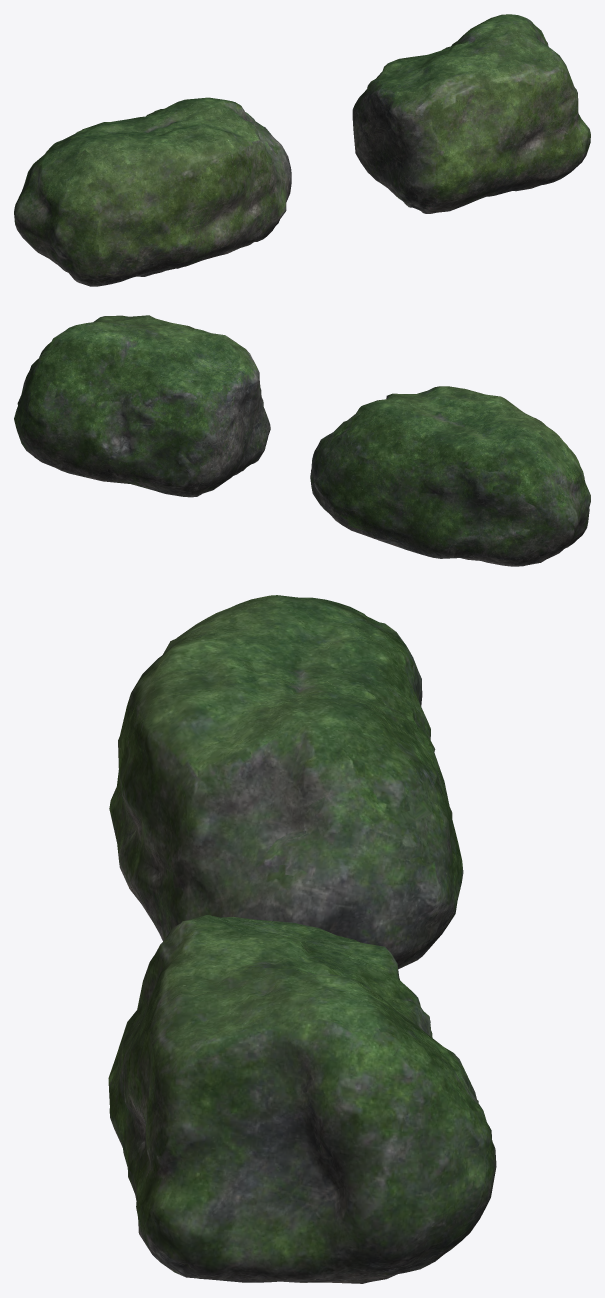
File: rocks.glb
The picture shows the model from 3 angles, top to bottom: view 1: azimuth 30°, elevation 25°; view 2: azimuth 150°, elevation 25°; view 3: azimuth 270°, elevation 25°; orthographic projection. The views are drawn at different scales.
Visible parts, largest first — view 1: pCube1_lambert2_0; view 2: pCube1_lambert2_0; view 3: pCube1_lambert2_0.
Part boxes in pixels (box(x1,y1,x2,y2)): pCube1_lambert2_0: box(14, 14, 590, 286); pCube1_lambert2_0: box(14, 315, 590, 566); pCube1_lambert2_0: box(108, 595, 496, 1283).
Size of the model in its own units: 0.1427 by 0.0339 by 0.0441.
Materials: 1 (1 with a texture image).
